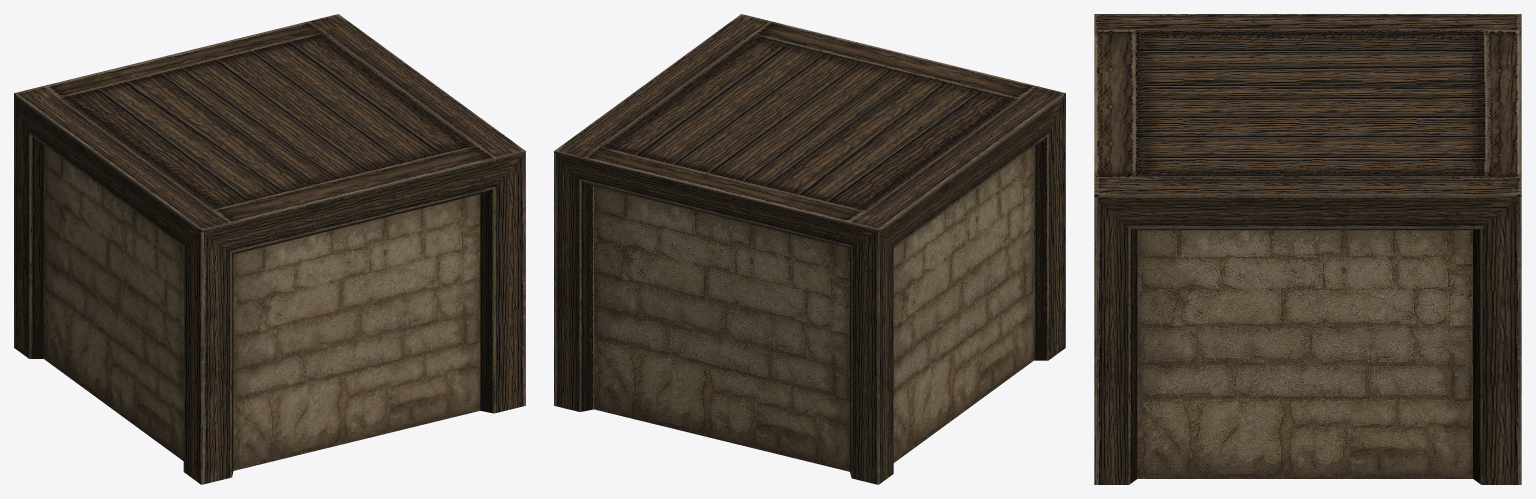
Rendered from House_4X4_03b.fbx.
3 renders of one model, left to right at view 1: azimuth 30°, elevation 25°; view 2: azimuth 150°, elevation 25°; view 3: azimuth 270°, elevation 25°, orthographic. The views are drawn at different scales.
Visible parts, largest first — view 1: House_4X4_03b; view 2: House_4X4_03b; view 3: House_4X4_03b.
Boxes of the visible parts, x1=… form: House_4X4_03b: x1=14, y1=14, x2=525, y2=484; House_4X4_03b: x1=554, y1=14, x2=1065, y2=484; House_4X4_03b: x1=1094, y1=14, x2=1521, y2=484.
Bounding box in the file's own units: 4 × 3 × 4.
